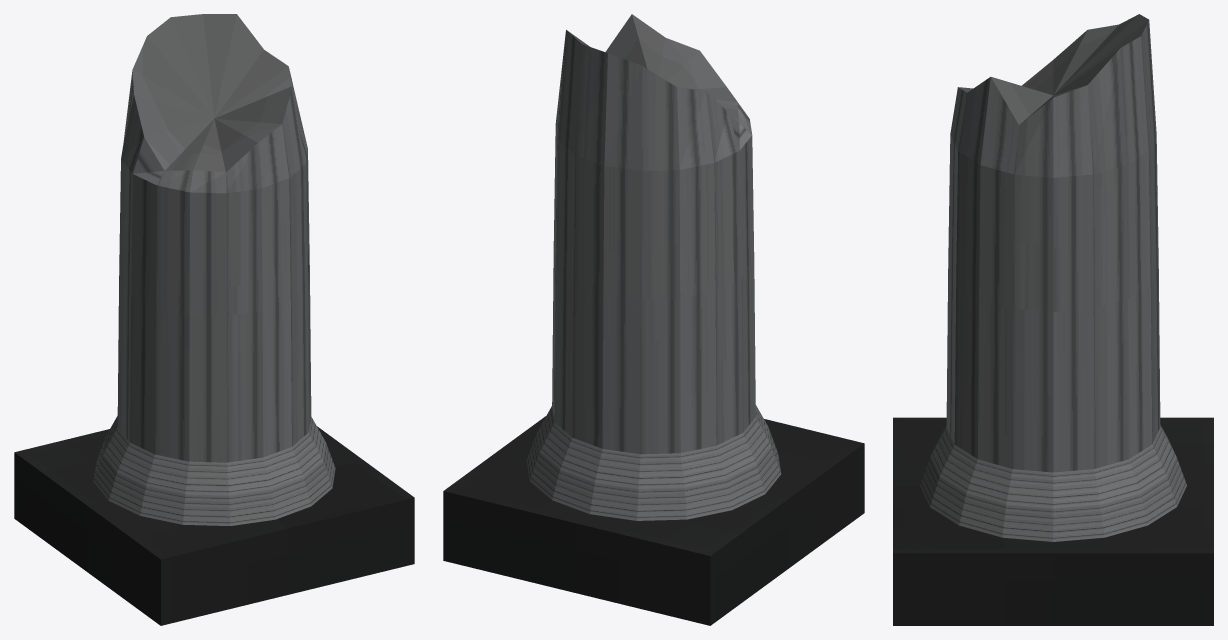
The model's file is marble_column_broken.glb.
3 renders of one model, left to right at view 1: azimuth 30°, elevation 25°; view 2: azimuth 150°, elevation 25°; view 3: azimuth 270°, elevation 25°, orthographic. The views are drawn at different scales.
Visible parts, largest first — view 1: MarbleColumnBroken; view 2: MarbleColumnBroken; view 3: MarbleColumnBroken.
Part boxes in pixels (<box>): MarbleColumnBroken: <box>14,14,414,625</box>; MarbleColumnBroken: <box>443,14,864,625</box>; MarbleColumnBroken: <box>893,14,1213,625</box>.
Size of what is drawn, in the model's own units: 1.2 by 2.22 by 1.2.
Materials: 4 (4 with a texture image).
